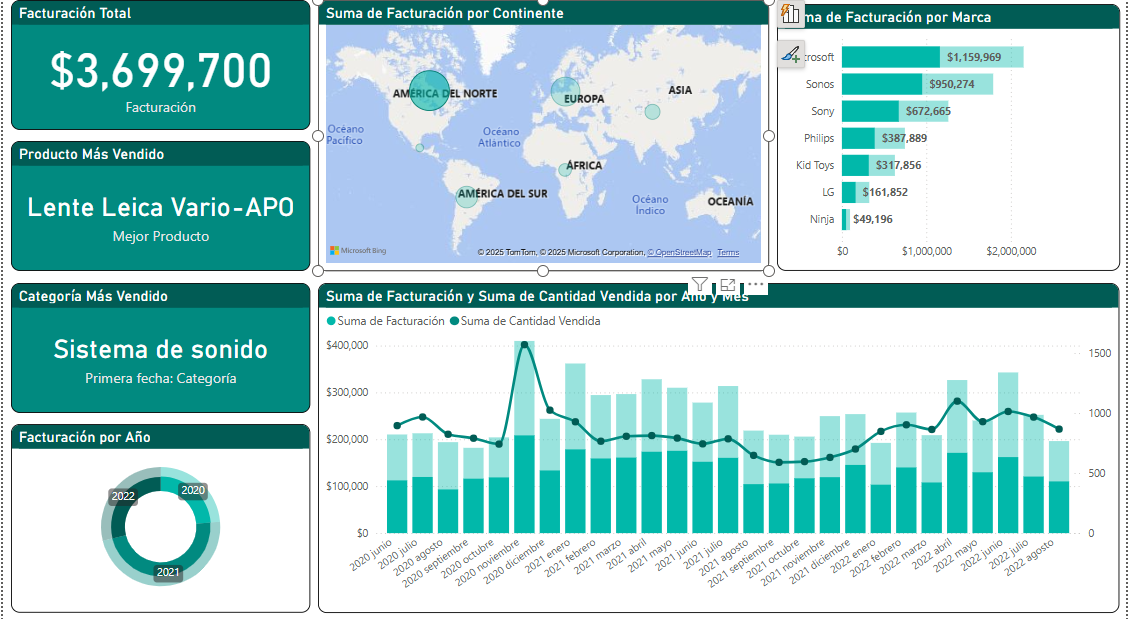

What the dashboard file says about the page in this screenshot:
{"tool":"powerbi","page":{"name":"Página 1","canvas":[1280,720],"ordinal":0},"visuals":[{"type":"card","title":"Facturación Total","fields":{"Values":["Sum(Ventas Tech.Facturación)"]},"box":[8.8,7.5,341.2,147.5],"z":0},{"type":"card","title":"Categoría Más Vendido","fields":{"Values":["Min(Ventas Tech.Categoría)"]},"box":[8.8,330,341.2,147.5],"z":1000},{"type":"map","fields":{"Category":["Ventas Tech.Continente"],"Size":["Sum(Ventas Tech.Facturación)"]},"box":[358.8,7.5,513.8,308.8],"z":2000},{"type":"lineStackedColumnComboChart","fields":{"Category":["Ventas Tech.Fecha De Venta.Variación.Jerarquía de fechas.Año","Ventas Tech.Fecha De Venta.Variación.Jerarquía de fechas.Mes"],"Y":["Sum(Ventas Tech.Facturación)"],"Y2":["Sum(Ventas Tech.Cantidad Vendida)"]},"box":[358.8,330,912.5,376.2],"z":3000},{"type":"clusteredBarChart","fields":{"Category":["Ventas Tech.Marca"],"Y":["Sum(Ventas Tech.Facturación)"]},"box":[881.2,12.5,391.2,303.8],"z":4000},{"type":"card","title":"Producto Más Vendido","fields":{"Values":["Min(Ventas Tech.Producto)"]},"box":[8.8,168.8,341.2,147.5],"z":5000},{"type":"donutChart","title":"Facturación por Año","fields":{"Y":["Sum(Ventas Tech.Facturación)"],"Category":["Ventas Tech.Fecha De Venta.Variación.Jerarquía de fechas.Año"]},"box":[8.8,491.2,341.2,215],"z":6000}]}

Visuals, with their boxes in screenshot pixels (x1, y1, x2, y2), scaled from the page's 1280x720 canvas onto the 1130x619 screenshot:
"Facturación Total" card: 8/6/309/133
"Categoría Más Vendido" card: 8/284/309/411
map - Ventas Tech.Continente x Sum(Ventas Tech.Facturación): 317/6/770/272
lineStackedColumnComboChart - Ventas Tech.Fecha De Venta.Variación.Jerarquía de fechas.Año x Ventas Tech.Fecha De Venta.Variación.Jerarquía de fechas.Mes: 317/284/1122/607
clusteredBarChart - Ventas Tech.Marca x Sum(Ventas Tech.Facturación): 778/11/1123/272
"Producto Más Vendido" card: 8/145/309/272
"Facturación por Año" donutChart: 8/422/309/607
